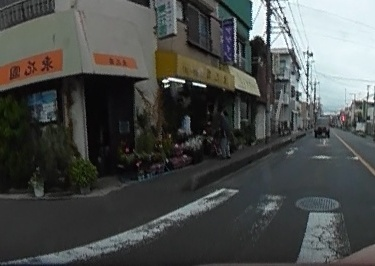person: (217, 110, 232, 158)
